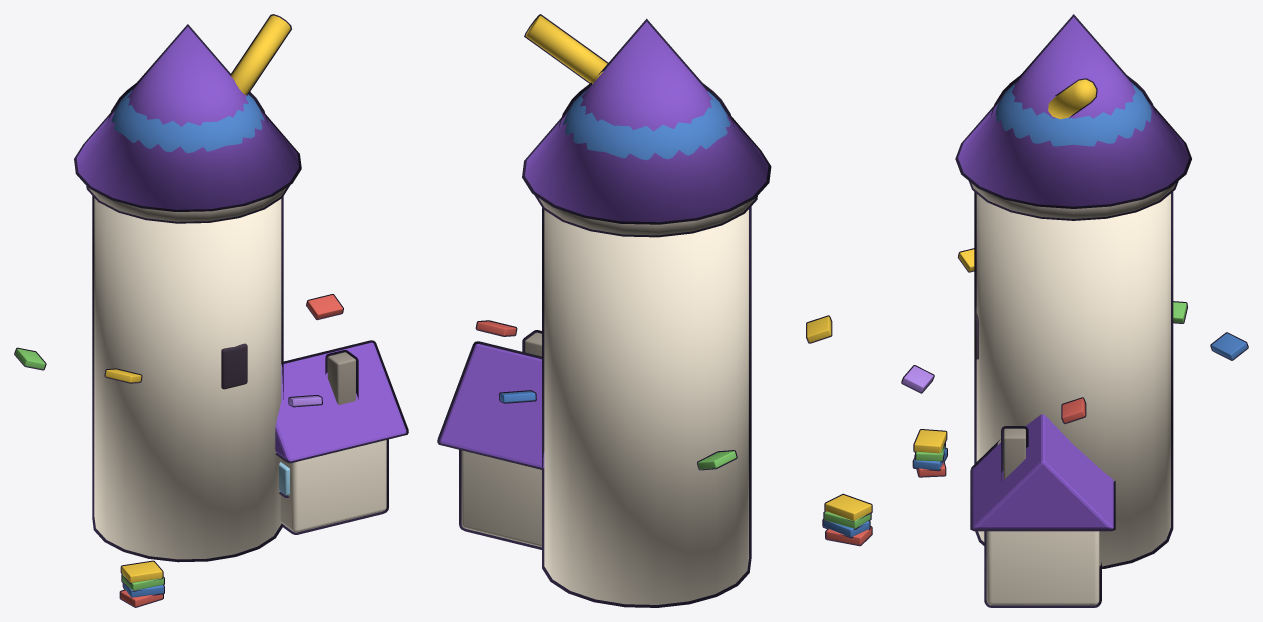
Rendered from library_3.glb.
3 views of the same model, side by side, from view 1: azimuth 30°, elevation 25°; view 2: azimuth 150°, elevation 25°; view 3: azimuth 270°, elevation 25° (orthographic). The views are drawn at different scales.
Parts seen in each view (by area): view 1: tower, spire, cottage, dome, rim, telescope, box, box.004, box.005; view 2: tower, spire, cottage, dome, rim, telescope, box.004, box.008; view 3: tower, cottage, spire, dome, rim, telescope, box.004, box.006, box.009, box.005.
Boxes of the visible parts, x1=… form: tower: x1=92, y1=196, x2=283, y2=562; spire: x1=74, y1=24, x2=301, y2=211; cottage: x1=275, y1=340, x2=408, y2=534; dome: x1=107, y1=83, x2=268, y2=153; rim: x1=86, y1=185, x2=290, y2=223; telescope: x1=230, y1=14, x2=291, y2=95; box: x1=221, y1=343, x2=247, y2=389; box.004: x1=120, y1=560, x2=163, y2=583; box.005: x1=306, y1=294, x2=343, y2=320; tower: x1=542, y1=206, x2=751, y2=607; spire: x1=522, y1=18, x2=771, y2=224; cottage: x1=437, y1=330, x2=544, y2=549; dome: x1=559, y1=83, x2=734, y2=160; rim: x1=534, y1=195, x2=757, y2=237; telescope: x1=524, y1=14, x2=608, y2=83; box.004: x1=824, y1=493, x2=872, y2=521; box.008: x1=806, y1=315, x2=832, y2=343; tower: x1=974, y1=192, x2=1173, y2=568; cottage: x1=970, y1=414, x2=1115, y2=607; spire: x1=955, y1=14, x2=1191, y2=208; dome: x1=991, y1=75, x2=1156, y2=146; rim: x1=969, y1=181, x2=1178, y2=220; telescope: x1=1048, y1=78, x2=1097, y2=119; box.004: x1=913, y1=429, x2=947, y2=453; box.006: x1=1210, y1=332, x2=1248, y2=360; box.009: x1=901, y1=365, x2=934, y2=393; box.005: x1=1061, y1=397, x2=1086, y2=423.
Size of the model in its own units: 3.57 by 5.56 by 3.4.
